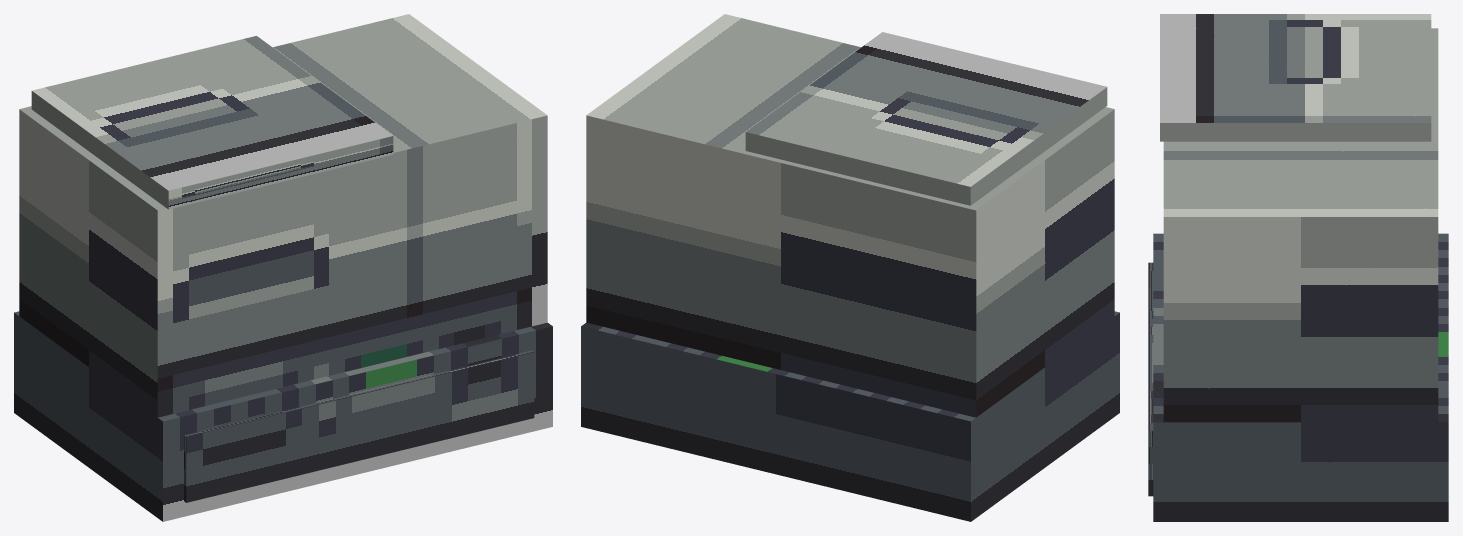
Rendered from pda_painter.glb.
3 views of the same model, side by side, from view 1: azimuth 30°, elevation 25°; view 2: azimuth 150°, elevation 25°; view 3: azimuth 270°, elevation 25° (orthographic).
Visible parts, largest first — view 1: Painter_Body, Device_Lid, Control_pdapainter; view 2: Painter_Body, Device_Lid; view 3: Painter_Body, Device_Lid, Control_pdapainter.
Part boxes in pixels (<box>): Painter_Body: <box>14,14,552,521</box>; Device_Lid: <box>31,36,393,209</box>; Control_pdapainter: <box>184,350,534,502</box>; Painter_Body: <box>581,14,1119,521</box>; Device_Lid: <box>745,32,1107,205</box>; Painter_Body: <box>1153,28,1448,521</box>; Device_Lid: <box>1160,14,1431,141</box>; Control_pdapainter: <box>1148,262,1153,496</box>.
Size of what is drawn, in the model's own units: 1.3 by 1.04 by 0.874.
Materials: 1 (1 with a texture image).
